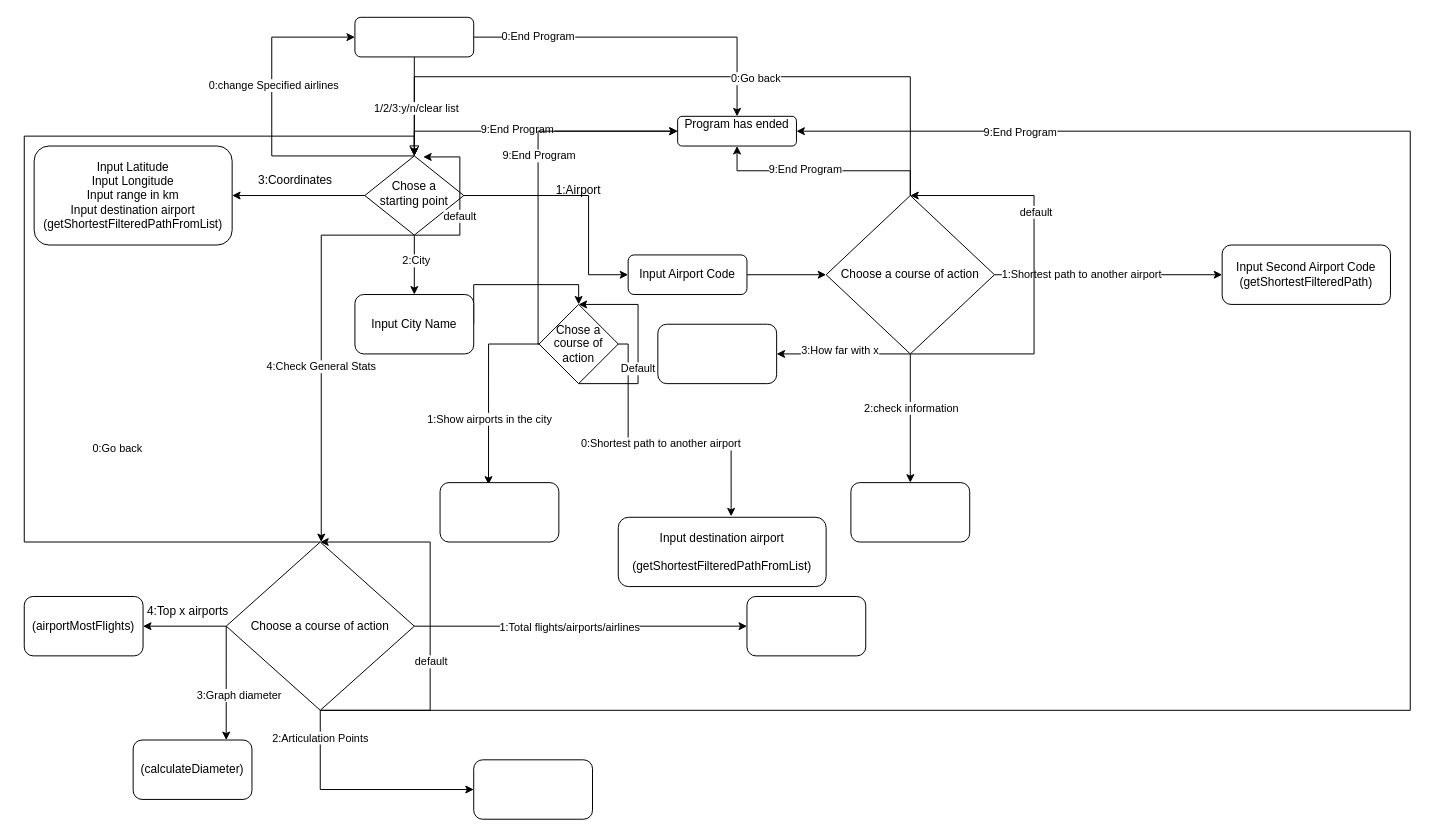
Image size: 1436x837. Some labels were removed from this diagram. The centre of each missing label's shape, as x and y in pixels:
"(articulationPoints)" goes at pixel 533 789.
"(getAvailableFlights) (getDestinations)" goes at pixel 910 512.
"(getStats)" goes at pixel 717 353.
"(showCityAirports)" goes at pixel 499 512.
"number" goes at pixel 806 625.
"Specify airlines?" goes at pixel 414 36.
